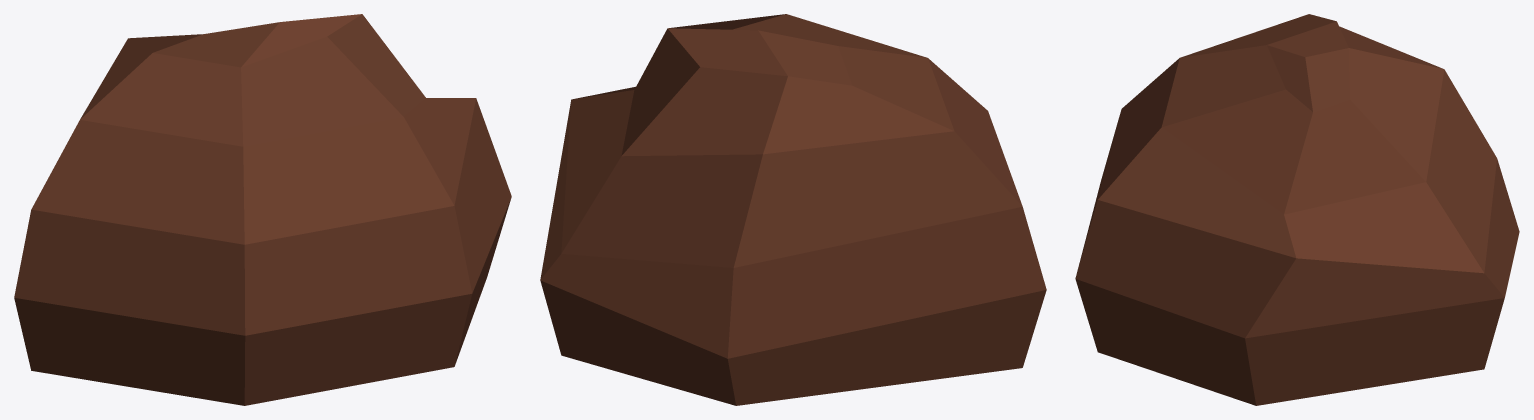
Rendered from RED_rock3.glb.
3 views of the same model, side by side, from view 1: azimuth 30°, elevation 25°; view 2: azimuth 150°, elevation 25°; view 3: azimuth 270°, elevation 25° (orthographic). The views are drawn at different scales.
Visible parts, largest first — view 1: pSphere9; view 2: pSphere9; view 3: pSphere9.
Boxes of the visible parts, box(x1,y1,x2,y2) form: pSphere9: box(14, 14, 511, 405); pSphere9: box(540, 14, 1046, 405); pSphere9: box(1075, 14, 1519, 405).
Size of the model in its own units: 0.1592 by 0.0894 by 0.1358.
Materials: 1 (1 with a texture image).
